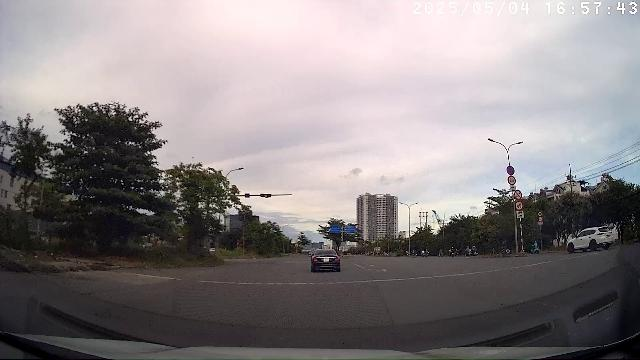127-toc-do-toi-da-60: (514, 200, 524, 210)
127-toc-do-toi-da-80: (508, 176, 516, 184)
130-cam-dung-va-do-xe: (507, 166, 515, 174)
